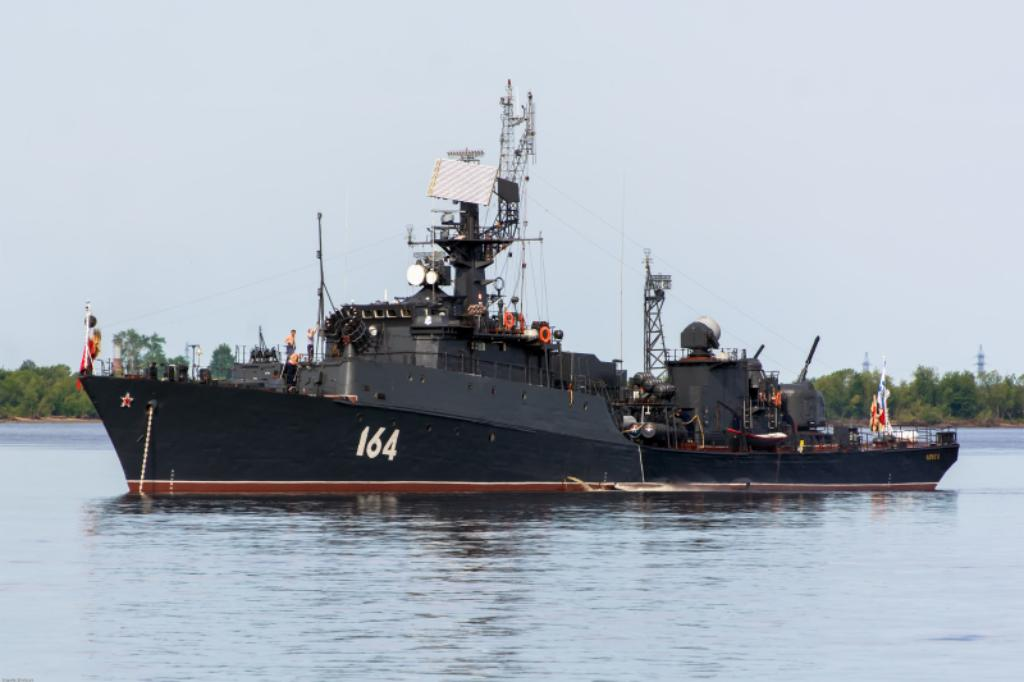Warship: (75, 65, 961, 498)
